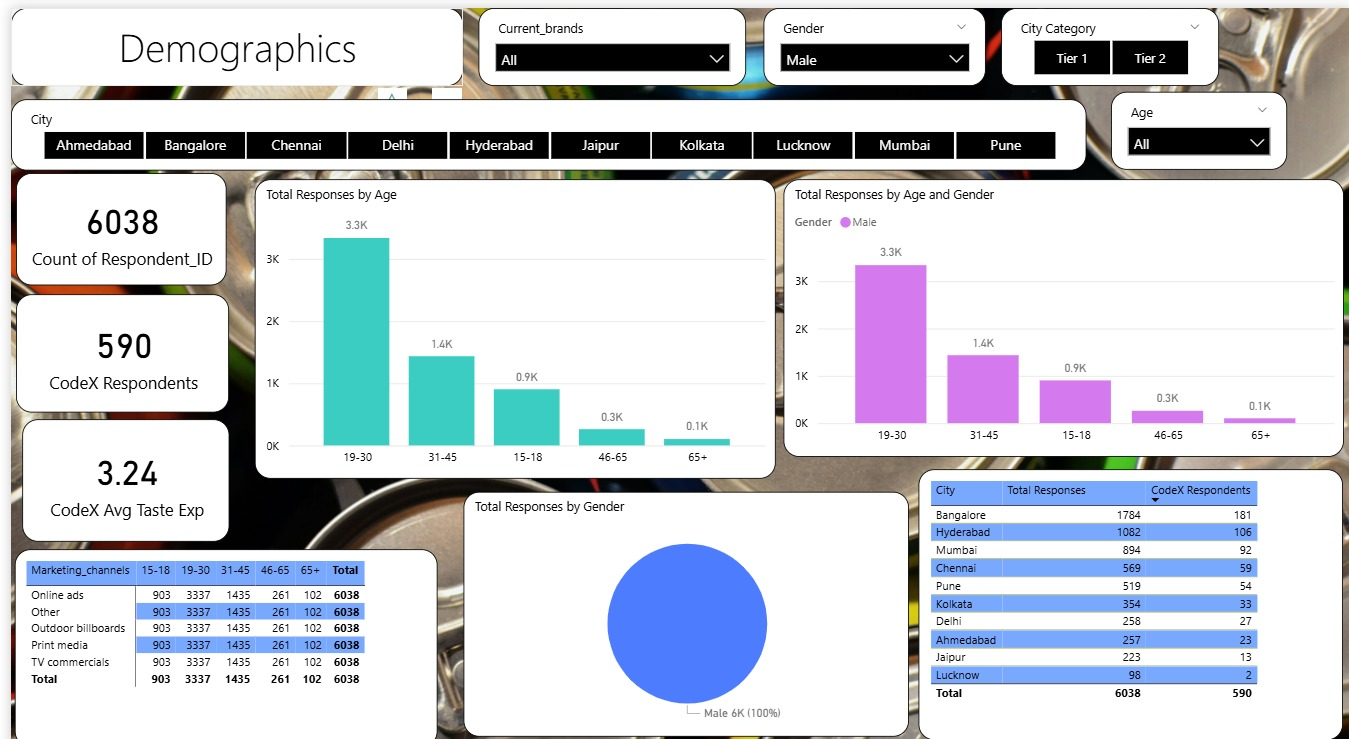

This screenshot's page, from the dashboard's own definition file:
{"tool":"powerbi","page":{"name":"Page 1","canvas":[1280,720],"ordinal":0},"visuals":[{"type":"textbox","box":[0,0,431,74.7],"z":0},{"type":"slicer","fields":{"Values":["fact_survey_responses.Current_brands"]},"box":[445.4,0,255.5,74.7],"z":1000},{"type":"slicer","fields":{"Values":["dim_repondents.Gender"]},"box":[718,0,212.2,74.7],"z":2000},{"type":"slicer","fields":{"Values":["dim_cities.Tier"]},"box":[944.6,0,208.3,74.7],"z":3000},{"type":"slicer","fields":{"Values":["dim_cities.City"]},"box":[0,86.5,1025.8,68.1],"z":4000},{"type":"slicer","fields":{"Values":["dim_repondents.Age"]},"box":[1049.4,79.9,167.7,74.7],"z":5000},{"type":"card","fields":{"Values":["Table.CodeX Respondents"]},"box":[5.2,272.5,203.1,112.7],"z":6000},{"type":"card","fields":{"Values":["Table.CodeX Avg Taste Exp"]},"box":[10.5,391.7,197.8,116.6],"z":7000},{"type":"card","fields":{"Values":["CountNonNull(dim_repondents.Respondent_ID)"]},"box":[5.2,157.2,200.5,107.4],"z":8000},{"type":"tableEx","fields":{"Values":["dim_cities.City","Table.Total Responses","Table.CodeX Respondents"]},"box":[866,440.2,404.8,258.1],"z":9000},{"type":"clusteredColumnChart","fields":{"Y":["Table.Total Responses"],"Category":["dim_repondents.Age"],"Series":["dim_repondents.Gender"]},"box":[736.3,163.8,534.5,264.6],"z":10000},{"type":"pieChart","fields":{"Category":["dim_repondents.Gender"],"Y":["Table.Total Responses"]},"box":[431,461.2,424.5,233.2],"z":11000},{"type":"pivotTable","title":"Marketing Channels","fields":{"Rows":["fact_survey_responses.Marketing_channels"],"Columns":["dim_repondents.Age"],"Values":["Table.Total Responses"]},"box":[3.9,516.2,403.5,188.7],"z":12000},{"type":"clusteredColumnChart","fields":{"Y":["Table.Total Responses"],"Category":["dim_repondents.Age"]},"box":[231.9,163.8,496.5,285.6],"z":13000}]}

Visuals, with their boxes in screenshot pixels (x1, y1, x2, y2), scaled from the page's 1280x720 canvas onto the 1349x739 screenshot:
textbox: box(0, 0, 454, 77)
slicer - fact_survey_responses.Current_brands: box(469, 0, 739, 77)
slicer - dim_repondents.Gender: box(757, 0, 980, 77)
slicer - dim_cities.Tier: box(996, 0, 1215, 77)
slicer - dim_cities.City: box(0, 89, 1081, 159)
slicer - dim_repondents.Age: box(1106, 82, 1283, 159)
card - Table.CodeX Respondents: box(5, 280, 220, 395)
card - Table.CodeX Avg Taste Exp: box(11, 402, 220, 522)
card - CountNonNull(dim_repondents.Respondent_ID): box(5, 161, 217, 272)
tableEx - dim_cities.City x Table.Total Responses: box(913, 452, 1339, 717)
clusteredColumnChart - Table.Total Responses x dim_repondents.Age: box(776, 168, 1339, 440)
pieChart - dim_repondents.Gender x Table.Total Responses: box(454, 473, 902, 713)
"Marketing Channels" pivotTable: box(4, 530, 429, 724)
clusteredColumnChart - Table.Total Responses x dim_repondents.Age: box(244, 168, 768, 461)
